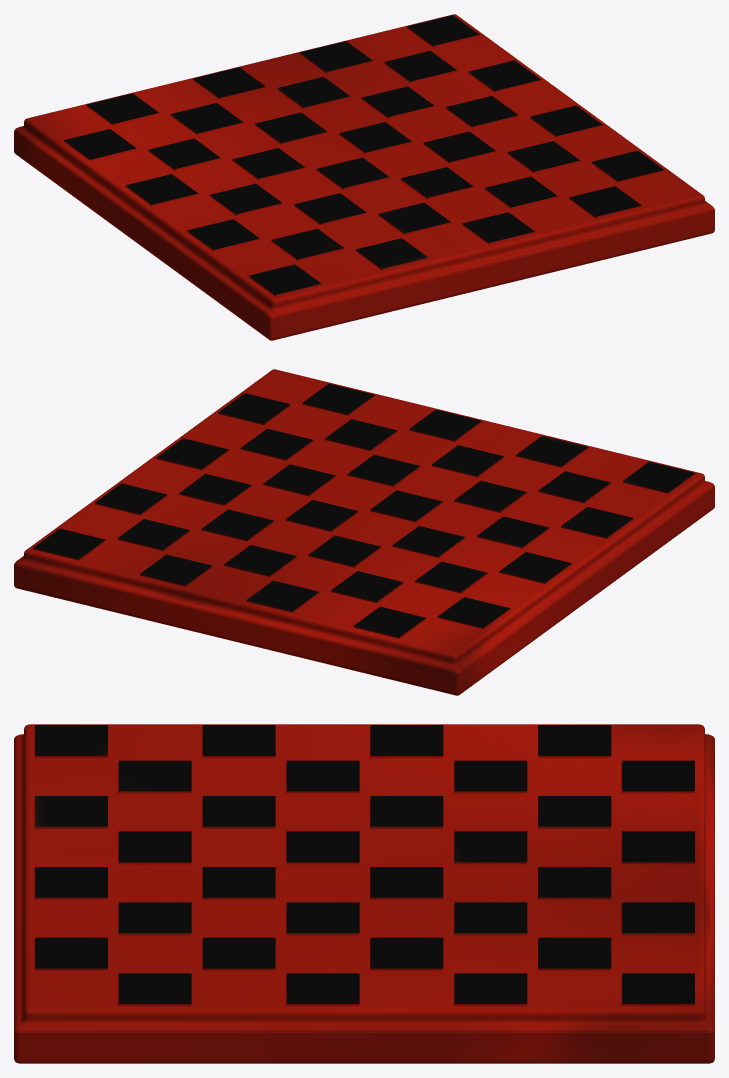
The model's file is board.glb.
3 views of the same model, one above another, from view 1: azimuth 30°, elevation 25°; view 2: azimuth 150°, elevation 25°; view 3: azimuth 270°, elevation 25° (orthographic). The views are drawn at different scales.
Parts seen in each view (by area): view 1: Chess Board; view 2: Chess Board; view 3: Chess Board.
Part boxes in pixels (x1,y1,x2,y2): Chess Board: (14,14,714,340); Chess Board: (14,369,714,695); Chess Board: (14,724,714,1063).
Bounding box in the file's own units: 24.51 × 2.03 × 24.51.
1 material, 1 textured.
